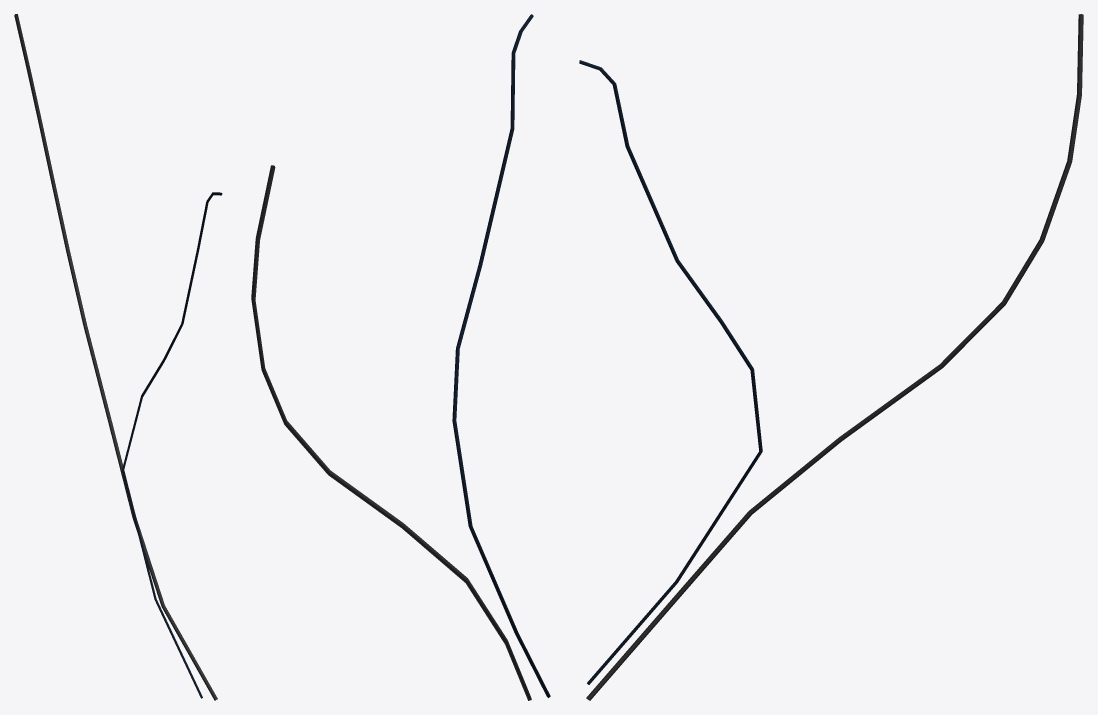
File: SM_H_Building_Tide_InterrogationRoom_01C_ATLAS.fbx
3 views of the same model, side by side, from view 1: azimuth 30°, elevation 25°; view 2: azimuth 150°, elevation 25°; view 3: azimuth 270°, elevation 25° (orthographic). The views are drawn at different scales.
Parts seen in each view (by area): view 1: SM_H_Building_Tide_InterrogationRoom_01C_ATLAS; view 2: SM_H_Building_Tide_InterrogationRoom_01C_ATLAS; view 3: SM_H_Building_Tide_InterrogationRoom_01C_ATLAS.
Part boxes in pixels (left/top/right/bottom): SM_H_Building_Tide_InterrogationRoom_01C_ATLAS: left=14, top=14, right=222, bottom=700; SM_H_Building_Tide_InterrogationRoom_01C_ATLAS: left=251, top=14, right=550, bottom=700; SM_H_Building_Tide_InterrogationRoom_01C_ATLAS: left=579, top=14, right=1083, bottom=700.
Size of the model in its own units: 45.38 by 333 by 499.
